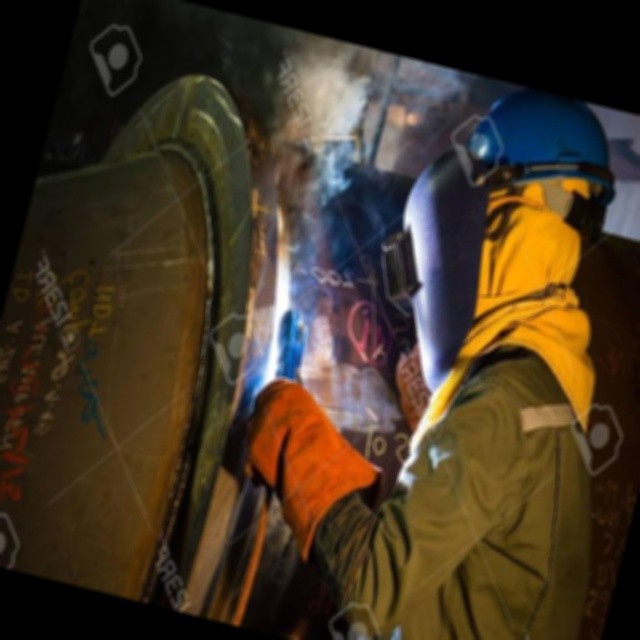Con_Casco: (451, 77, 632, 249)
